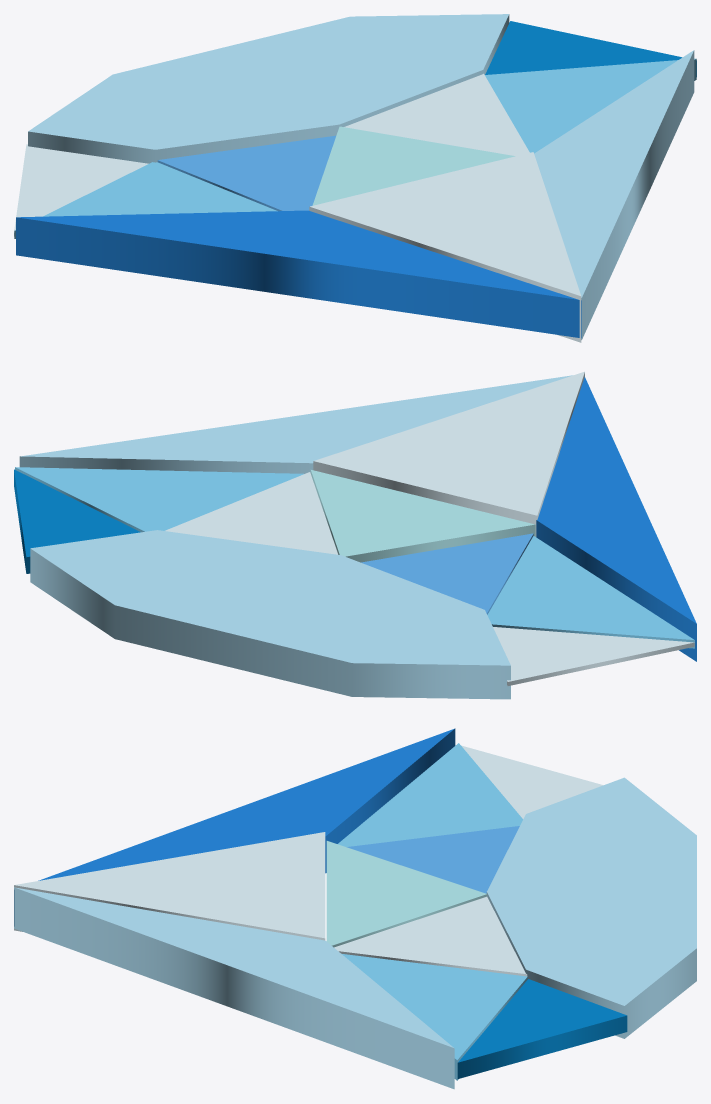
Rendered from emoji_u1f48e.glb.
3 views of the same model, one above another, from view 1: azimuth 30°, elevation 25°; view 2: azimuth 150°, elevation 25°; view 3: azimuth 270°, elevation 25° (orthographic). The views are drawn at different scales.
Visible parts, largest first — view 1: emoji_u1f48e; view 2: emoji_u1f48e; view 3: emoji_u1f48e.
Boxes of the visible parts, <box> form: emoji_u1f48e: <box>14,14,696,342</box>; emoji_u1f48e: <box>14,371,696,699</box>; emoji_u1f48e: <box>14,728,696,1089</box>.
Size of the model in its own units: 0.0337 by 0.0022 by 0.03.
